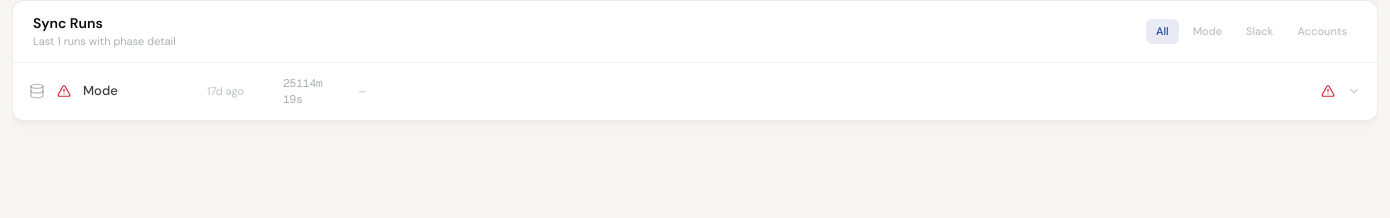
SyncRunLog › shows abandoned state for expired running leases
Click the button "Mode 17d ago 25114m 19s —": point(100, 91) [13,62,1377,120]
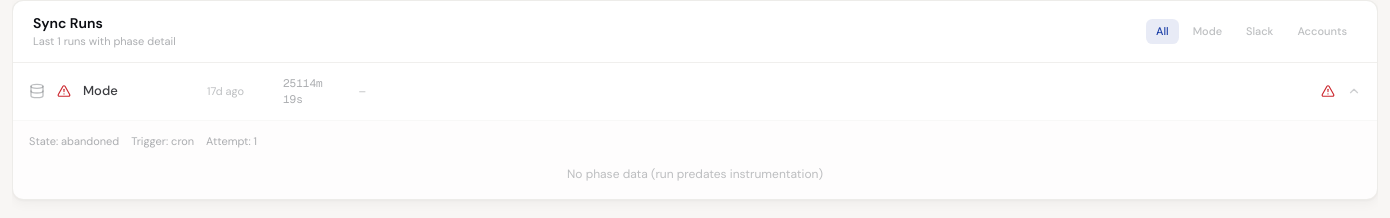
Result: the text "State: abandoned" is shown at [29,132,119,149]
